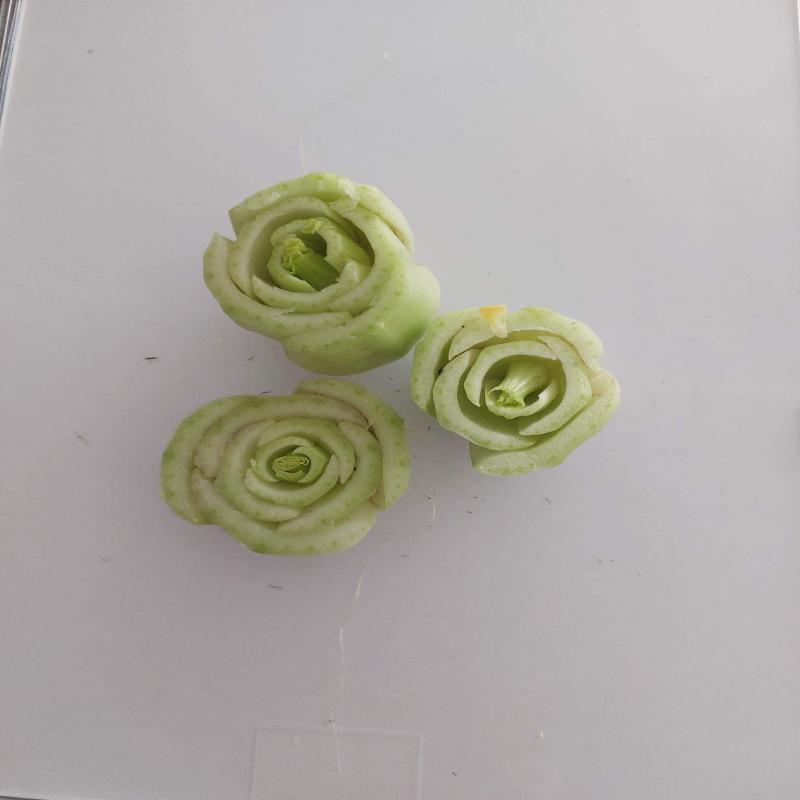vegetable peels: (203, 171, 441, 377), (158, 378, 412, 561), (411, 308, 621, 479)
